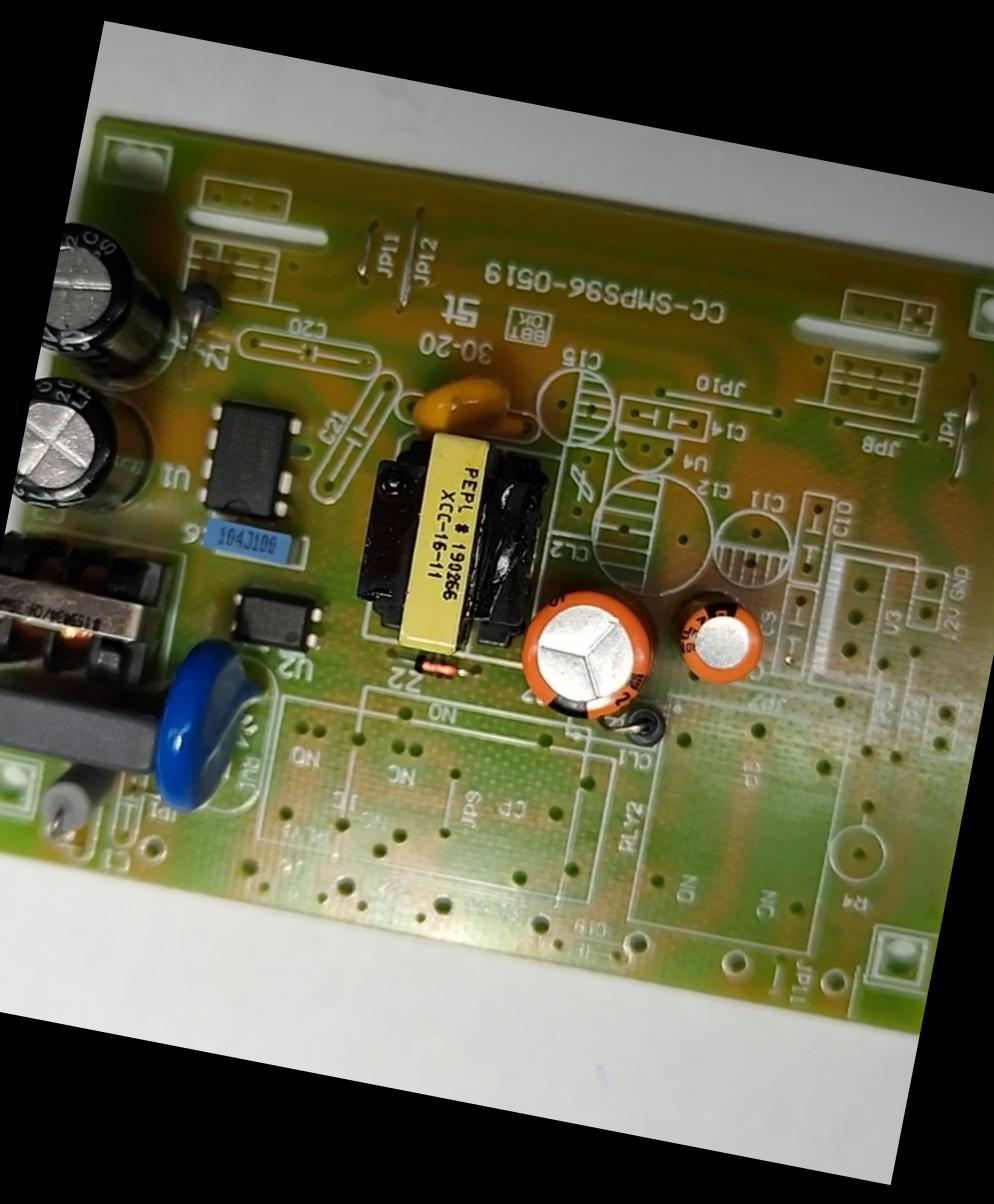Cap1: (511, 578, 668, 728)
Cap2: (670, 594, 772, 692)
Cap3: (10, 370, 174, 530)
Cap4: (36, 218, 200, 396)
MOSFET: (192, 391, 307, 522)
Mov: (144, 628, 278, 826)
Resistor: (30, 753, 120, 844)
Transformer: (345, 416, 561, 664), (0, 521, 184, 703)
